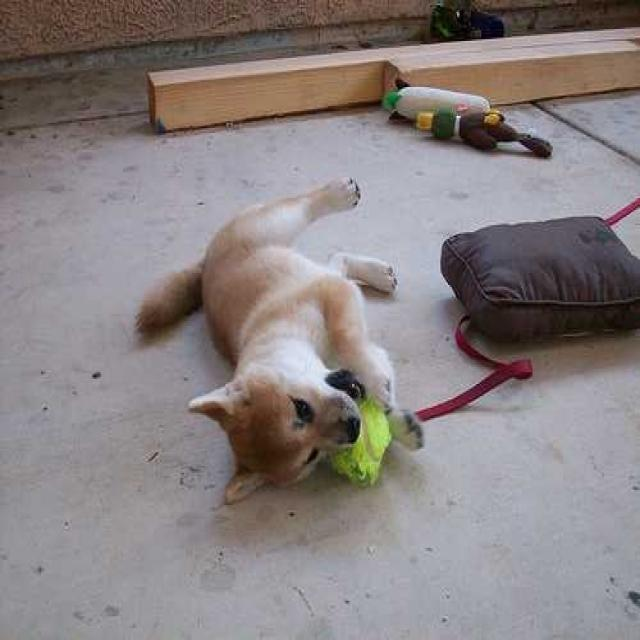Tennis_Ball: (339, 402, 388, 478)
